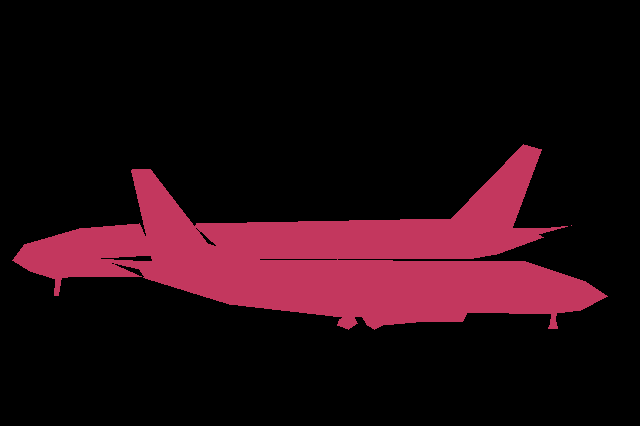Airplane: (12, 144, 572, 295), (93, 169, 607, 330)
